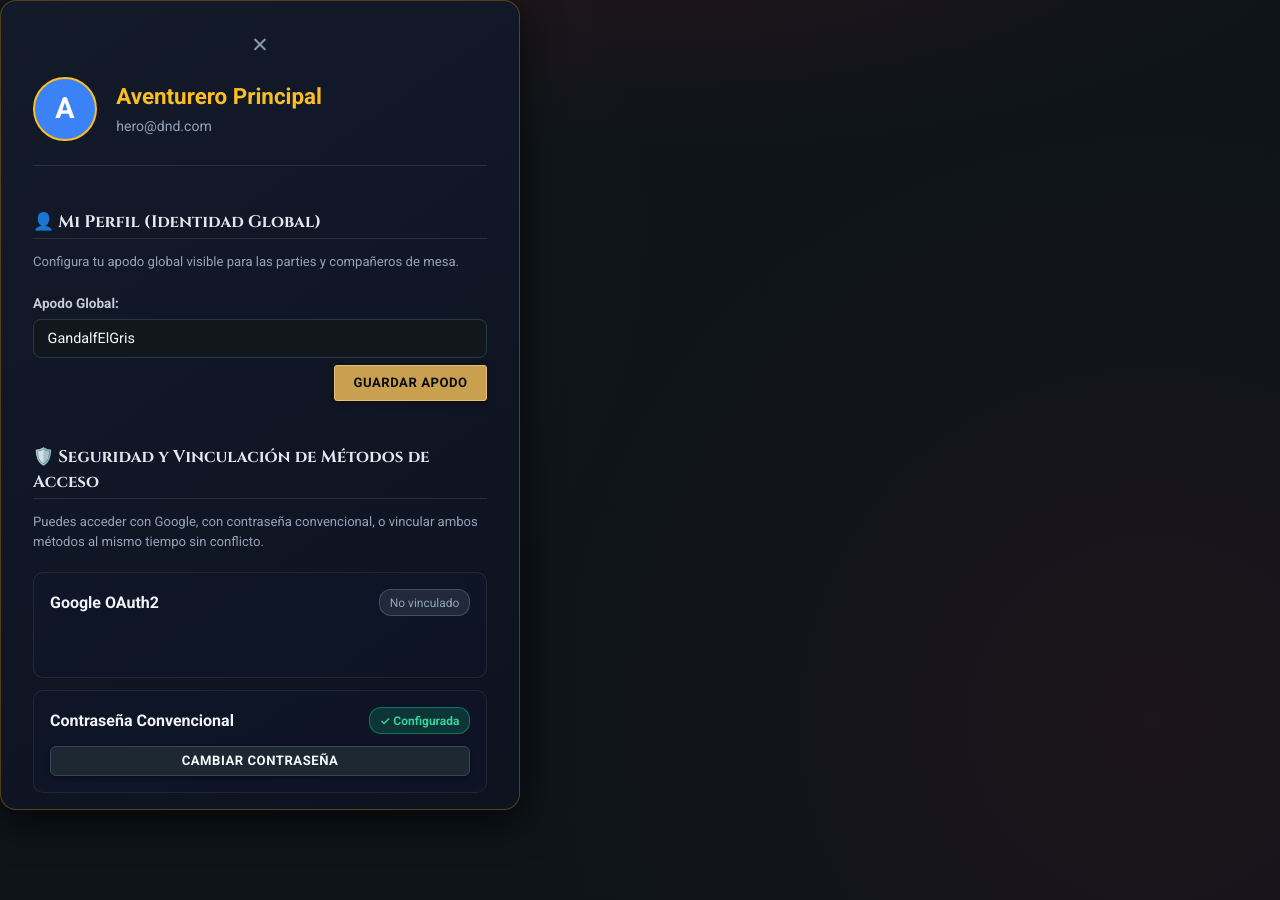
Test: UserProfileModal Component Suite › renders Mi Perfil section with initial global nickname and saves changes
The width and height of the screenshot is (1280, 900).
Expected: the heading "👤 Mi Perfil (Identidad Global)" is shown, x1=33 y1=210 x2=487 y2=239
Step 1. Replace the text in the field with id "global-nickname-input" with "Mithrandir" → coordinates (260, 338), box x1=33 y1=319 x2=487 y2=358
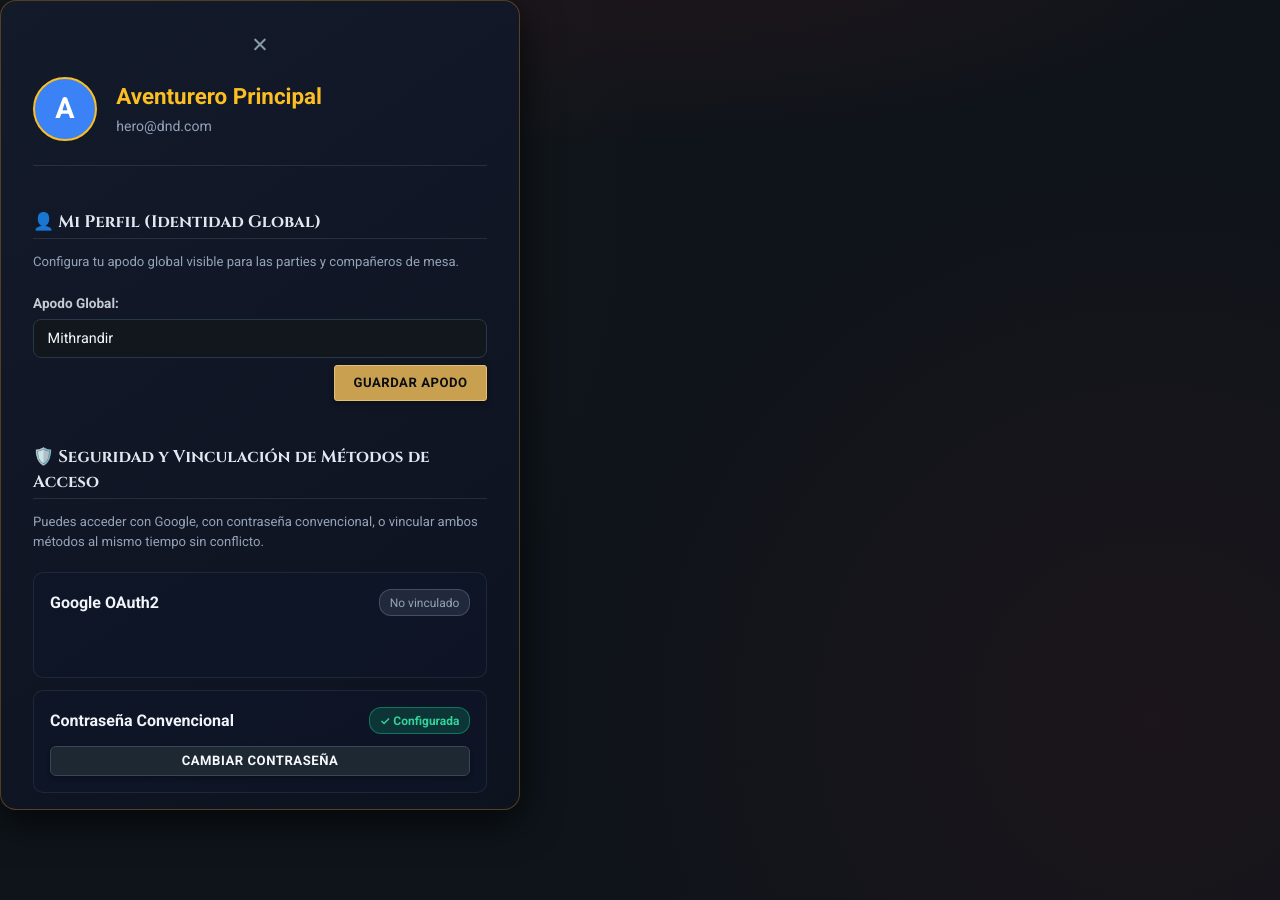
Step 2. Click the button with id "save-global-nickname-btn" → coordinates (410, 383), box x1=334 y1=365 x2=487 y2=401
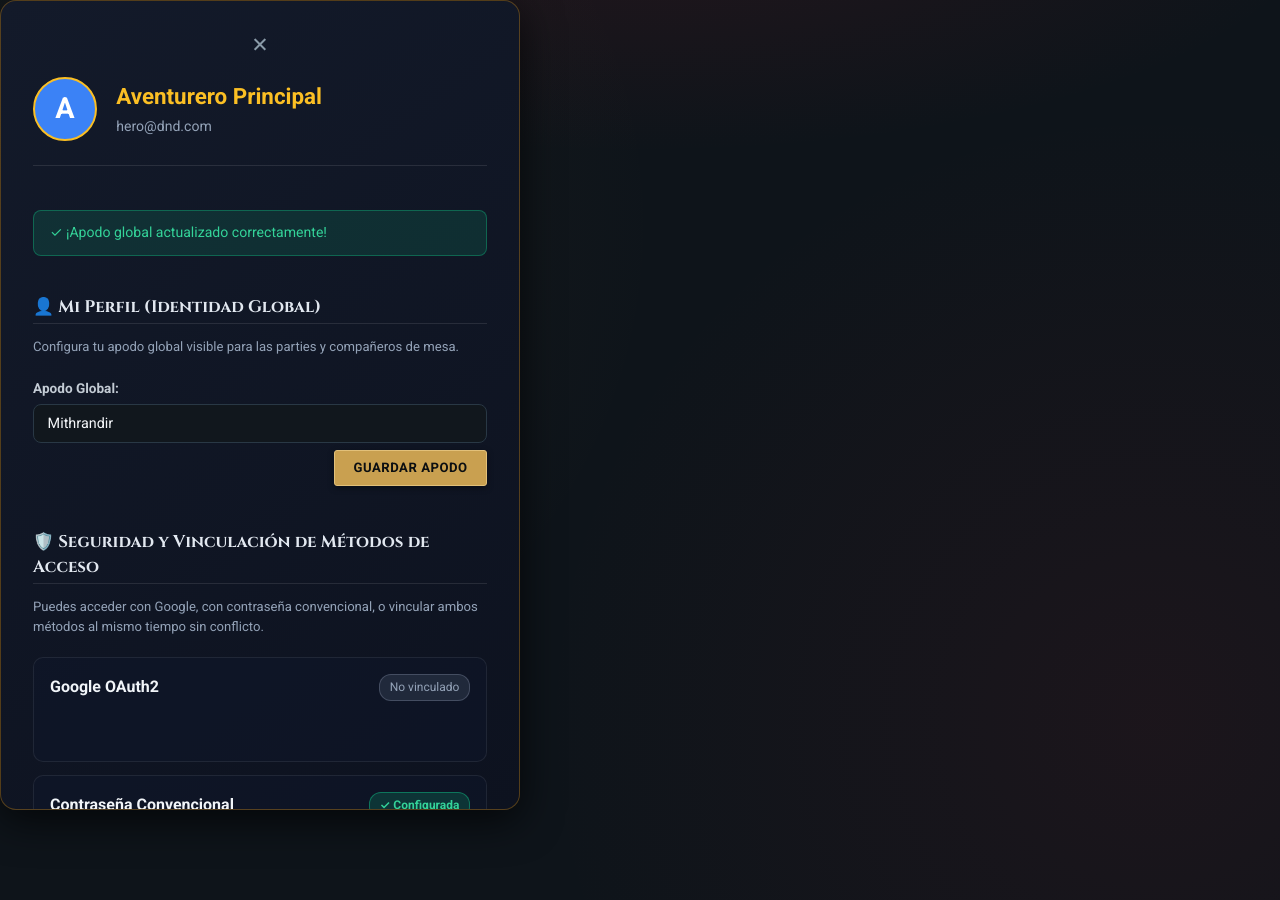
Expected: the text "✓ ¡Apodo global actualizado correctamente!" is shown, x1=33 y1=210 x2=487 y2=256
